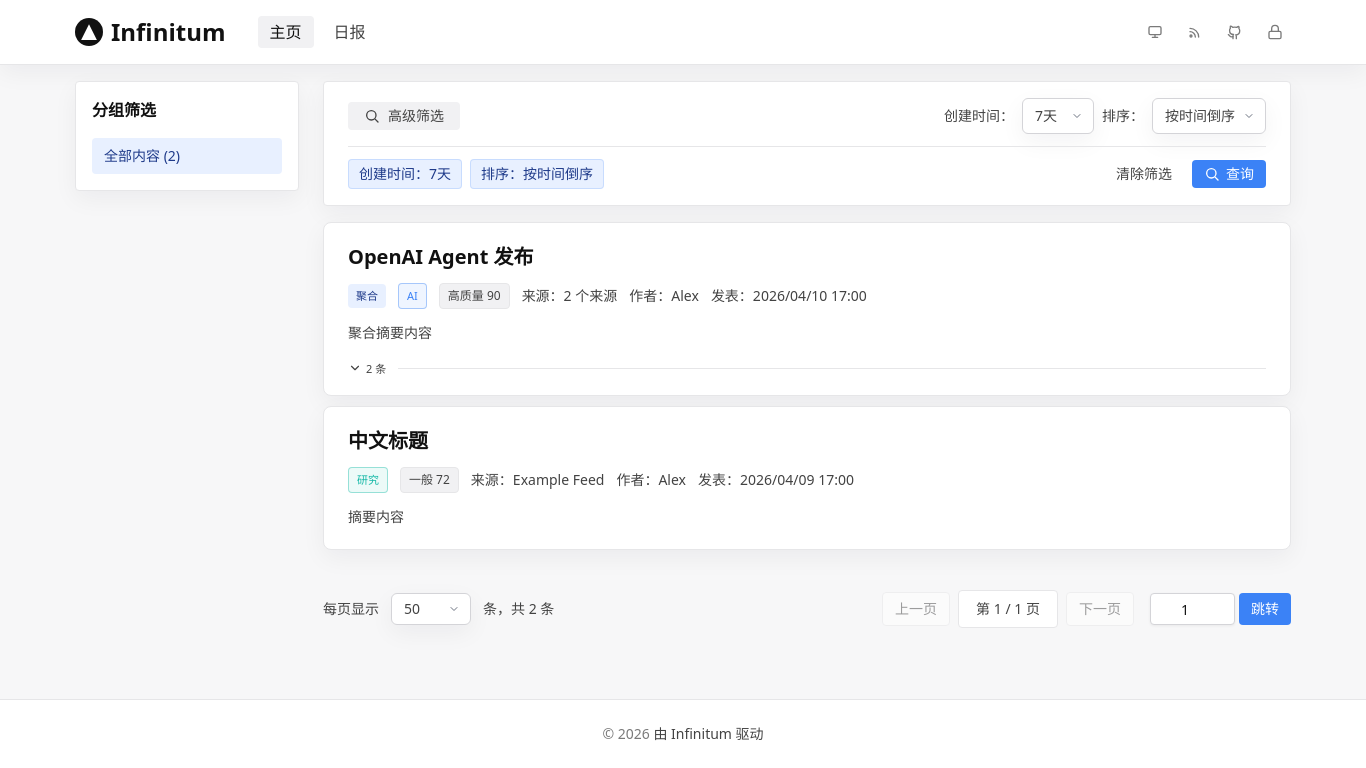
FeedPanel › renders the mixed feed and refetches when the range changes
expect the navigation bar named "主导航" is shown: met, box x1=258 y1=16 x2=378 y2=48
expect the element named "信息流筛选" is shown: met, box x1=323 y1=81 x2=1291 y2=206
Select "1月" in the dropdown labelled "创建时间" at point(1058, 116), box x1=1022 y1=98 x2=1094 y2=134
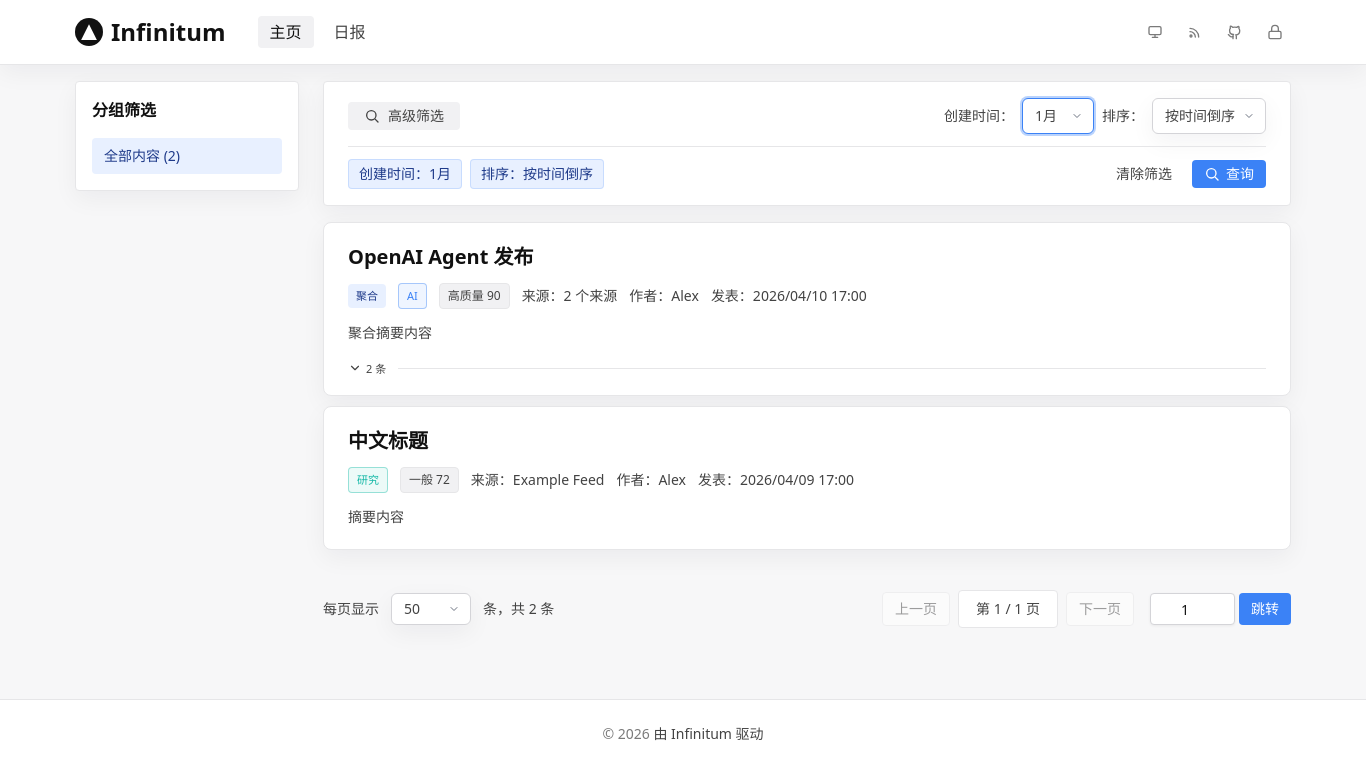
Click the button "查询".
click(1229, 174)  # box x1=1192 y1=160 x2=1266 y2=188
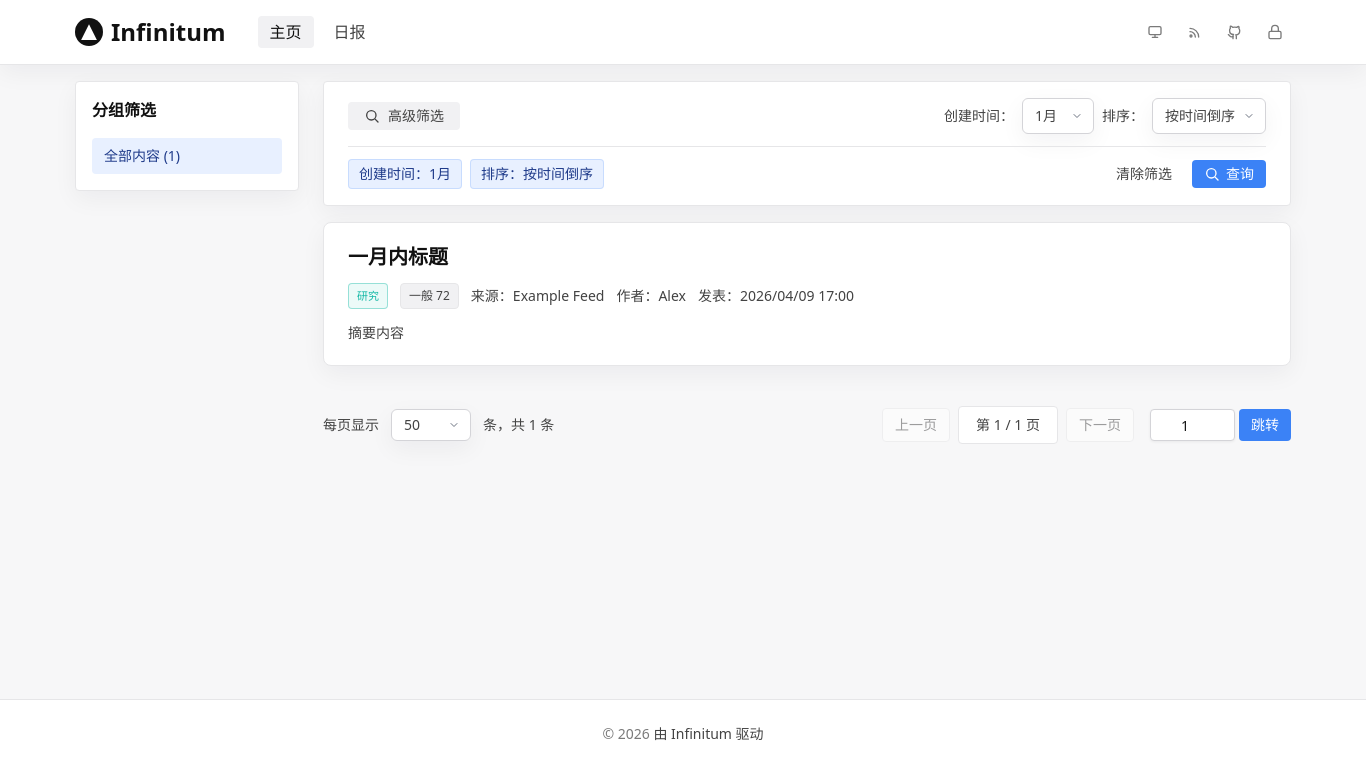
expect the link "一月内标题" is shown: met, box x1=348 y1=243 x2=448 y2=270
